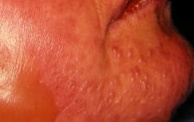SJS-TEN: (0, 35, 194, 122)
